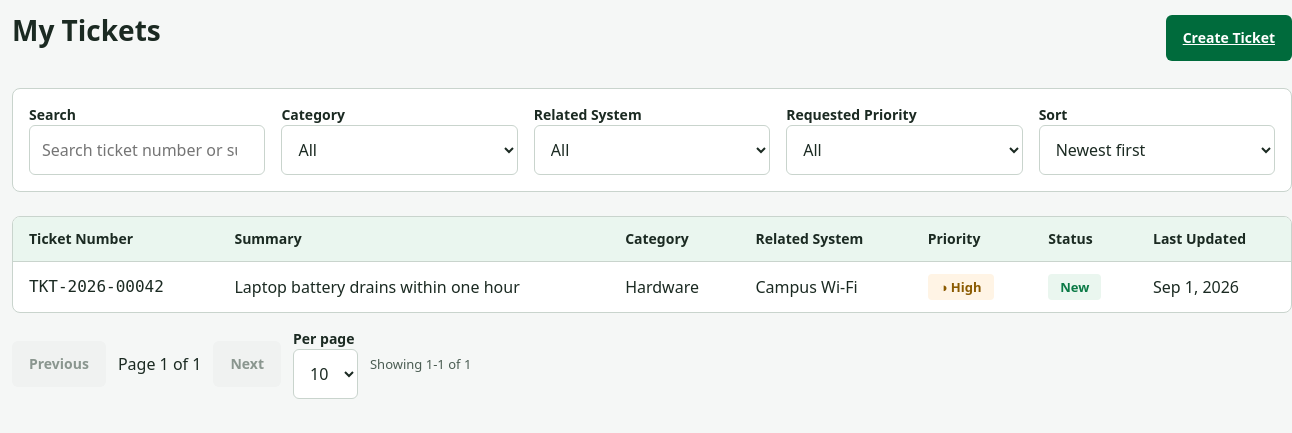
Test case: MyTickets (UI-23 - AC-25) › shows the no-results state with Clear Filters when a search matches nothing
The image size is (1292, 433).
Check: the row with test id "ticket-row-TKT-2026-00042" is shown, box [13,261,1291,312]
Type "zzz" into the search field with test id "field-search" at (147, 150), box [29,125,265,175]
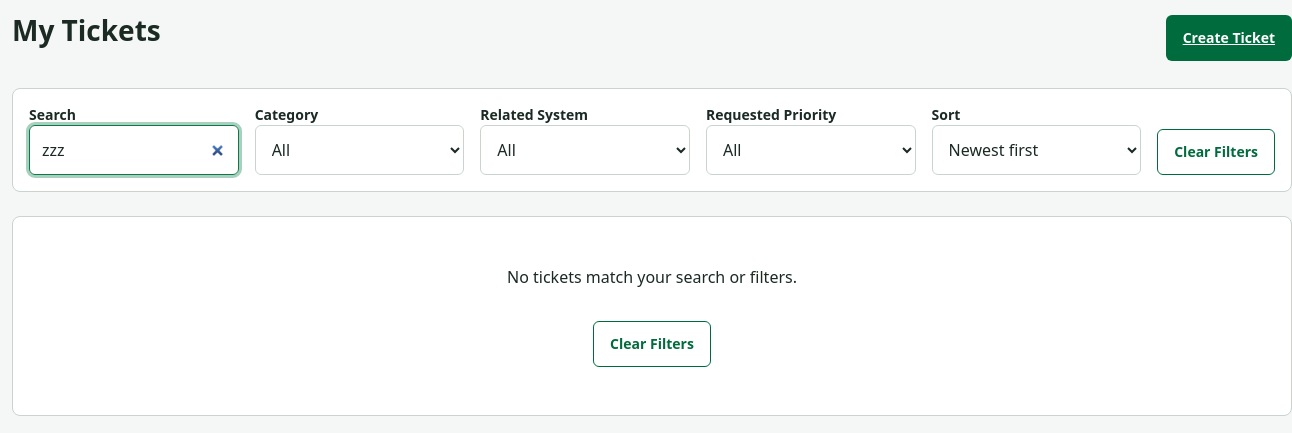
Check: the element with test id "state-no-results" shows "No tickets match", box [507,266,797,288]
Check: the button with test id "btn-clear-filters" is shown, box [1157,129,1275,175]
